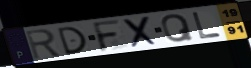D: (55, 25, 89, 56)
F: (91, 18, 123, 53)
L: (190, 11, 223, 40)
Q: (160, 13, 196, 44)
R: (24, 28, 63, 61)
X: (121, 15, 161, 50)
